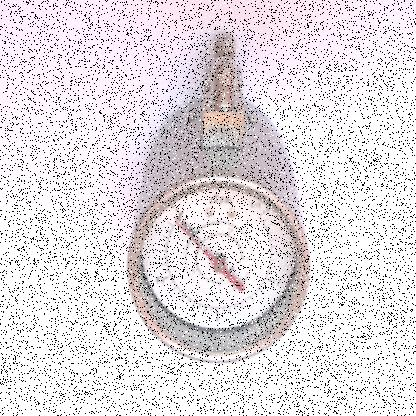needle: (175, 219, 217, 264)
